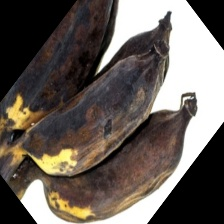banana: (42, 0, 202, 194)
